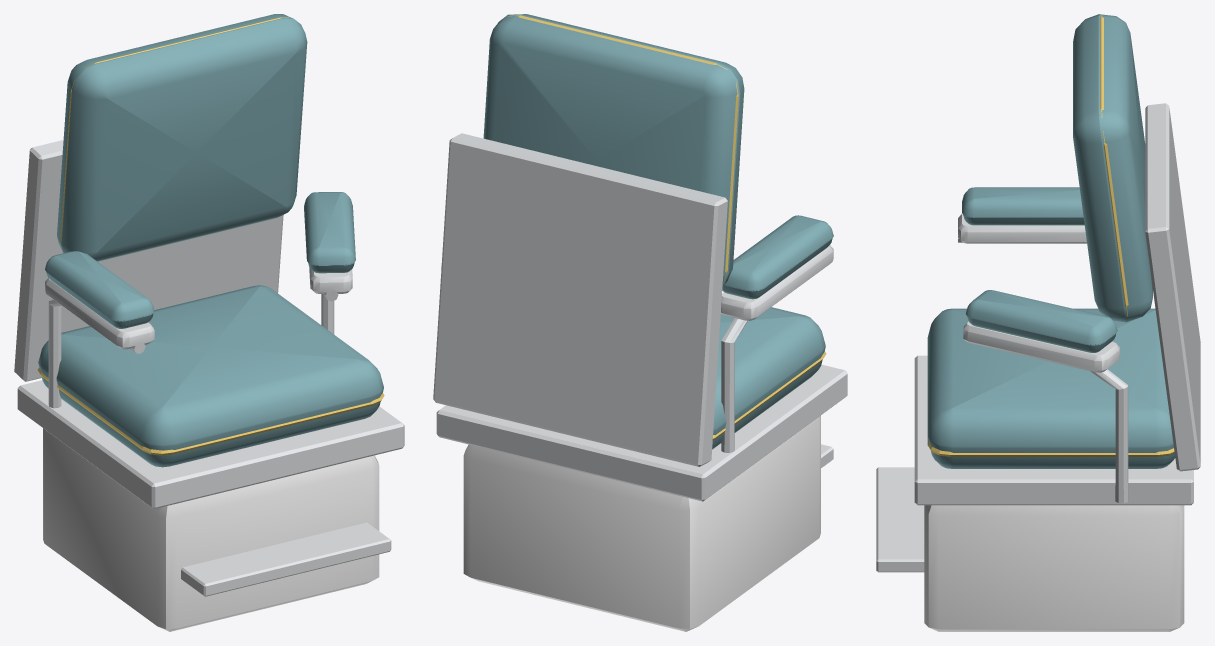
Rendered from clinic-and-veterinary-practice-phlebotomy-chair-866307e8__16753.glb.
3 views of the same model, side by side, from view 1: azimuth 30°, elevation 25°; view 2: azimuth 150°, elevation 25°; view 3: azimuth 270°, elevation 25° (orthographic). The views are drawn at different scales.
Parts seen in each view (by area): view 1: phlebotomy-chair; view 2: phlebotomy-chair; view 3: phlebotomy-chair.
Boxes of the visible parts, box(x1,y1,x2,y2) form: phlebotomy-chair: box(14, 14, 404, 631); phlebotomy-chair: box(433, 14, 847, 631); phlebotomy-chair: box(876, 14, 1200, 631).
Size of the model in its own units: 0.7316 by 1.19 by 0.6742.
